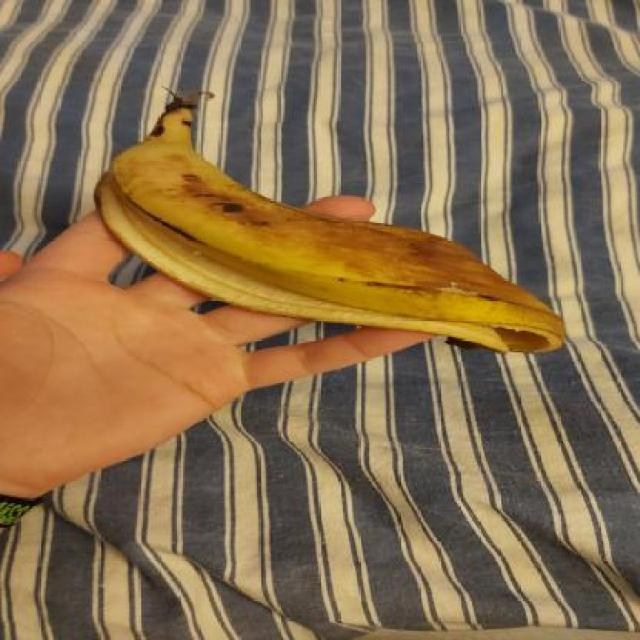banana-peel: (92, 85, 566, 356)
